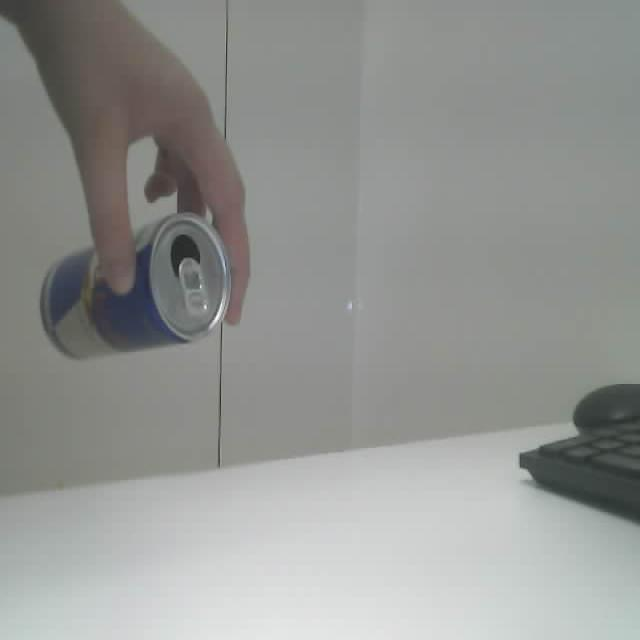redbull can: (40, 214, 230, 358)
